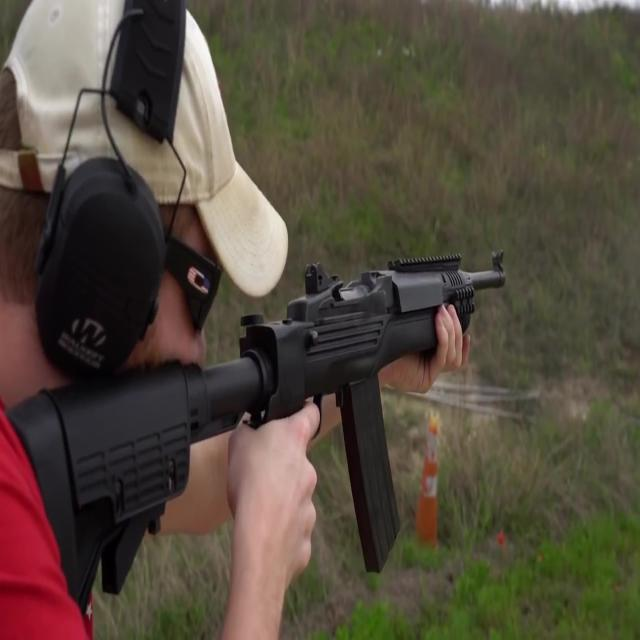Weapon: (9, 177, 565, 610)
